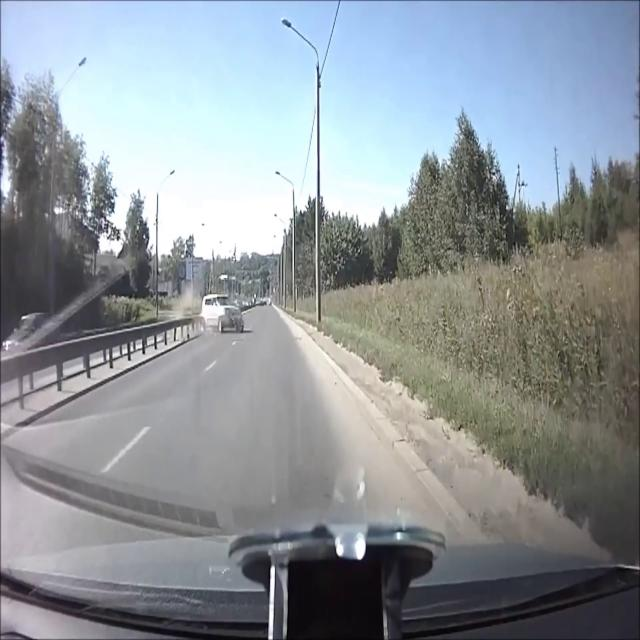accident: (194, 286, 253, 338)
